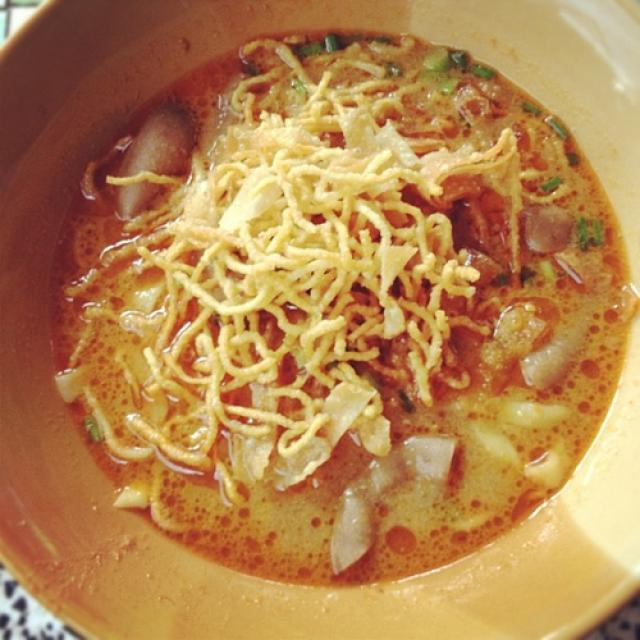面条主食: (11, 8, 635, 626)
